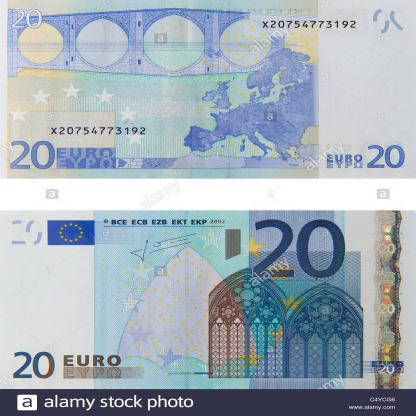euro_banknote: (1, 1, 416, 180), (1, 212, 416, 390)
